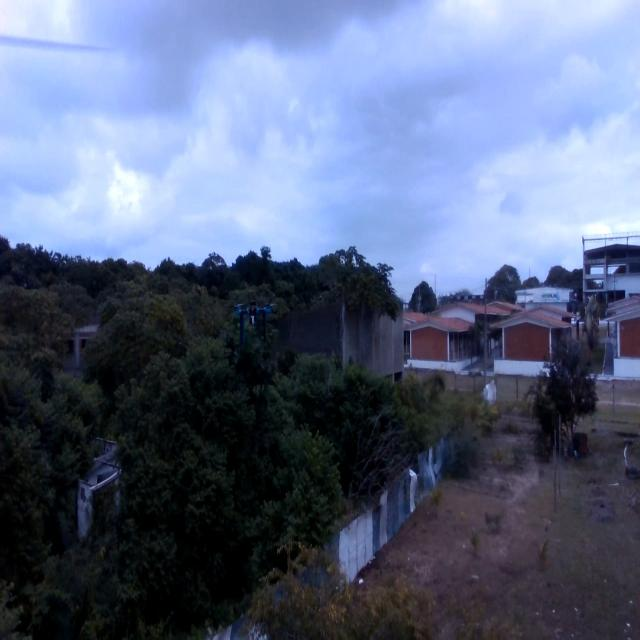-uav-: (236, 295, 275, 344)
